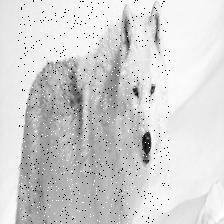WOLF: (18, 0, 170, 224)
